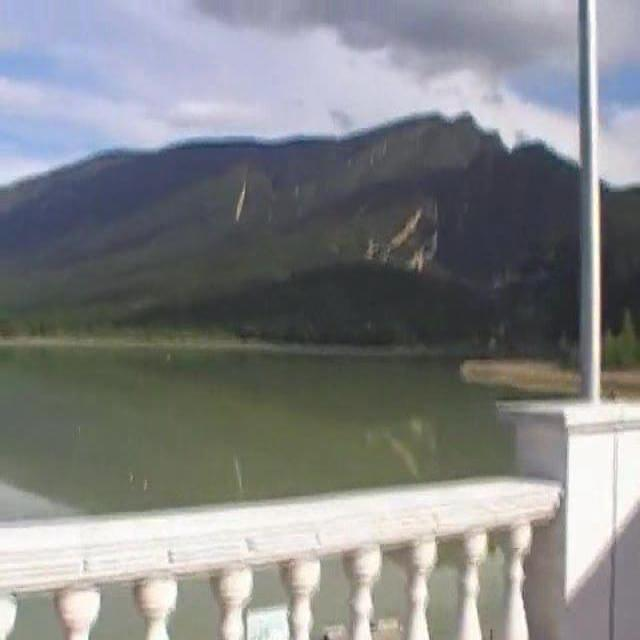other: (537, 394, 634, 544)
